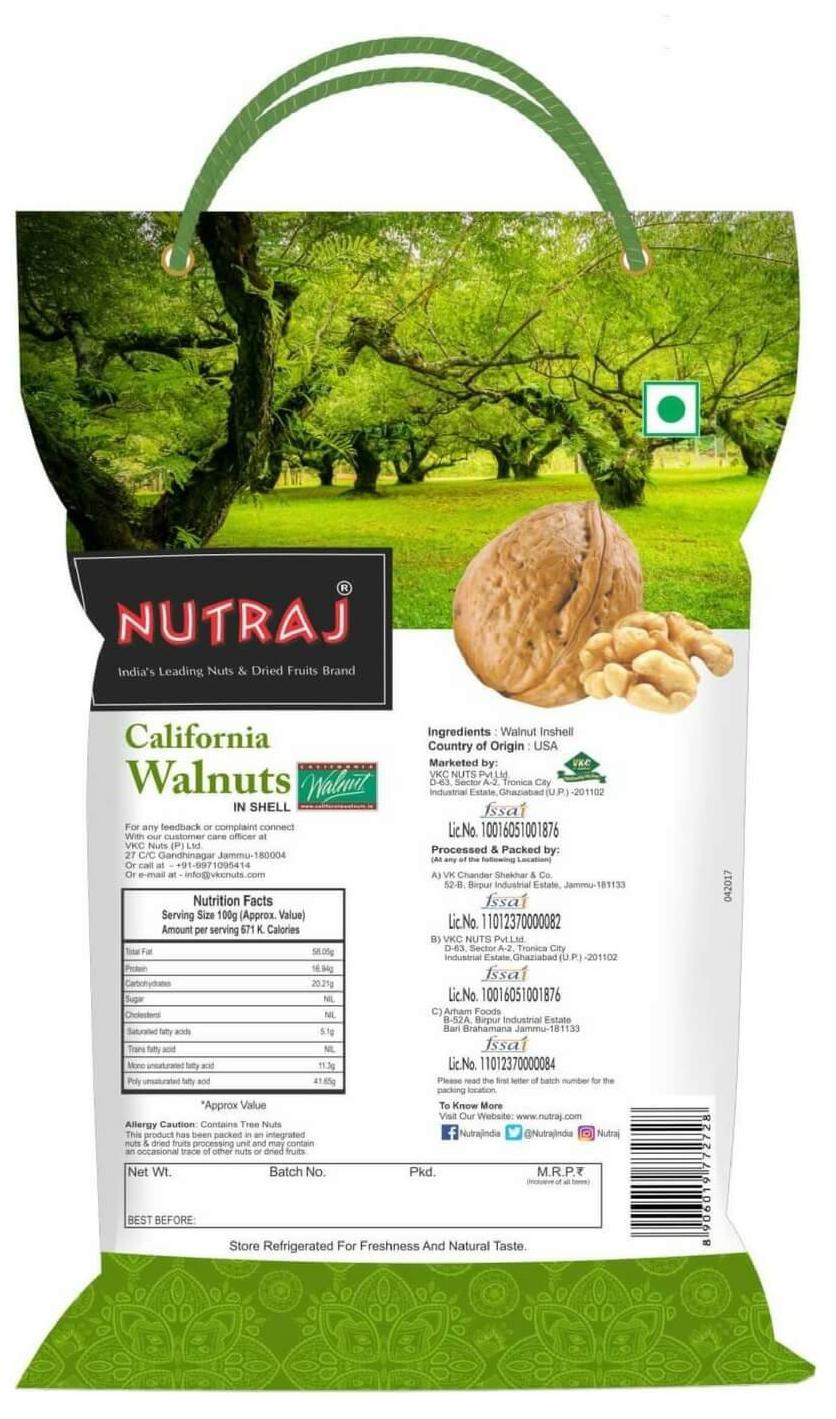fssai: (481, 964, 528, 982), (482, 1035, 530, 1052), (480, 802, 528, 818), (482, 893, 528, 908)
